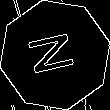N_E: (26, 30, 84, 80)
